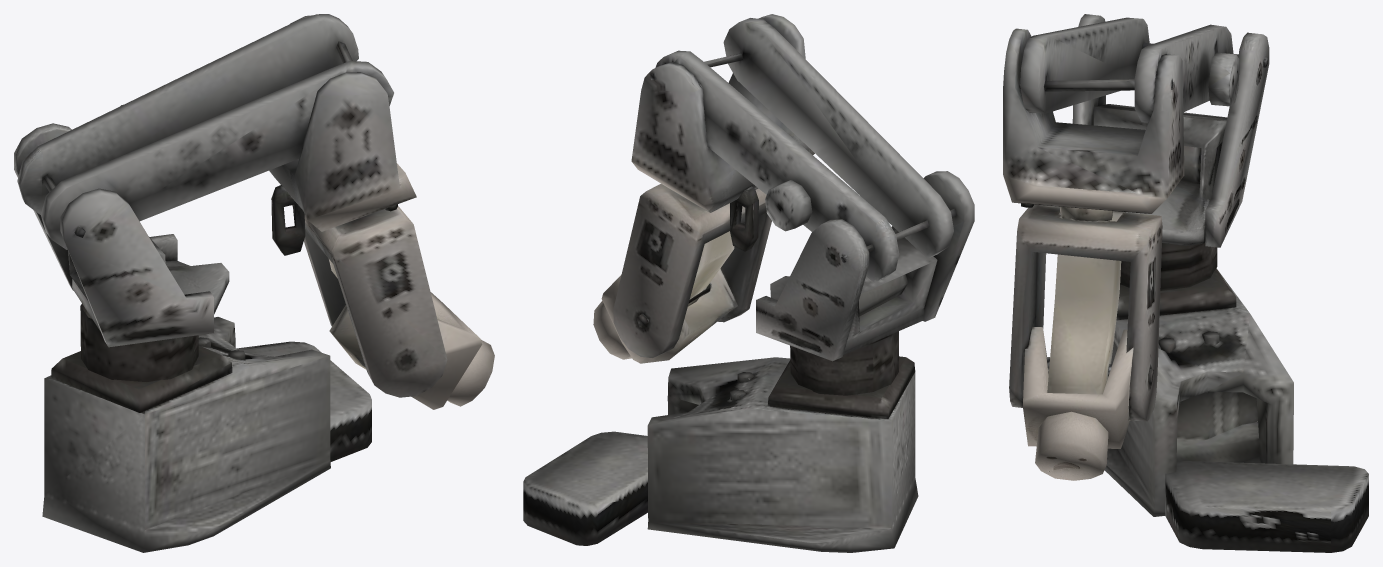
File: tripo_convert_d06732eb-eaab-4f2e-9cd7-47fcc98016d4.fbx
The picture shows the model from 3 angles, left to right: view 1: azimuth 30°, elevation 25°; view 2: azimuth 150°, elevation 25°; view 3: azimuth 270°, elevation 25°; orthographic projection. The views are drawn at different scales.
Parts seen in each view (by area): view 1: tripo_node_d06732eb; view 2: tripo_node_d06732eb; view 3: tripo_node_d06732eb.
Part boxes in pixels (bbox=[...]): tripo_node_d06732eb: bbox=[14, 14, 494, 552]; tripo_node_d06732eb: bbox=[523, 14, 974, 552]; tripo_node_d06732eb: bbox=[1003, 14, 1368, 552].
Size of the model in its own units: 0.9512 by 0.998 by 0.7168.
Materials: 1 (1 with a texture image).
